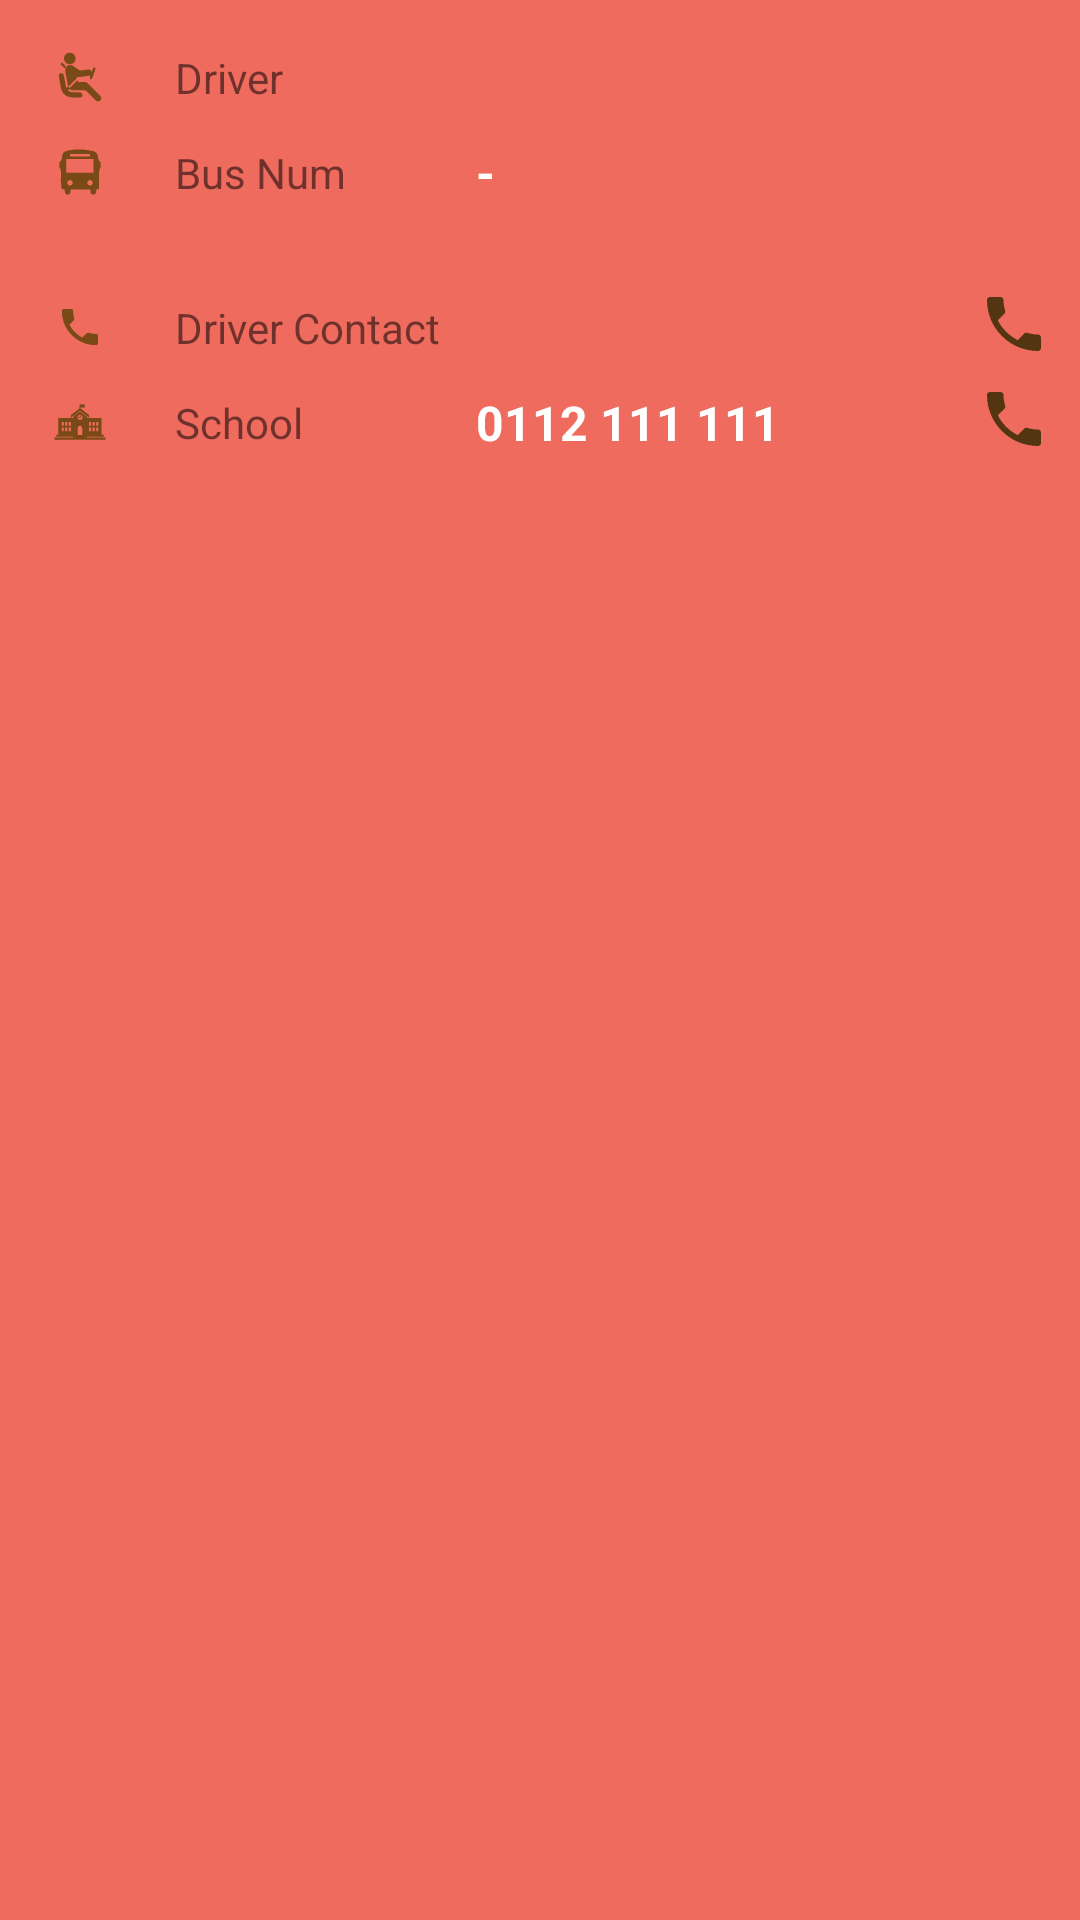

Locate icon controls on the screen. Image size 1080w x 1920h, boxes as detection(x1, y1, x2, y2).
local phone brown: detection(987, 297, 1041, 351), detection(987, 392, 1041, 446)
